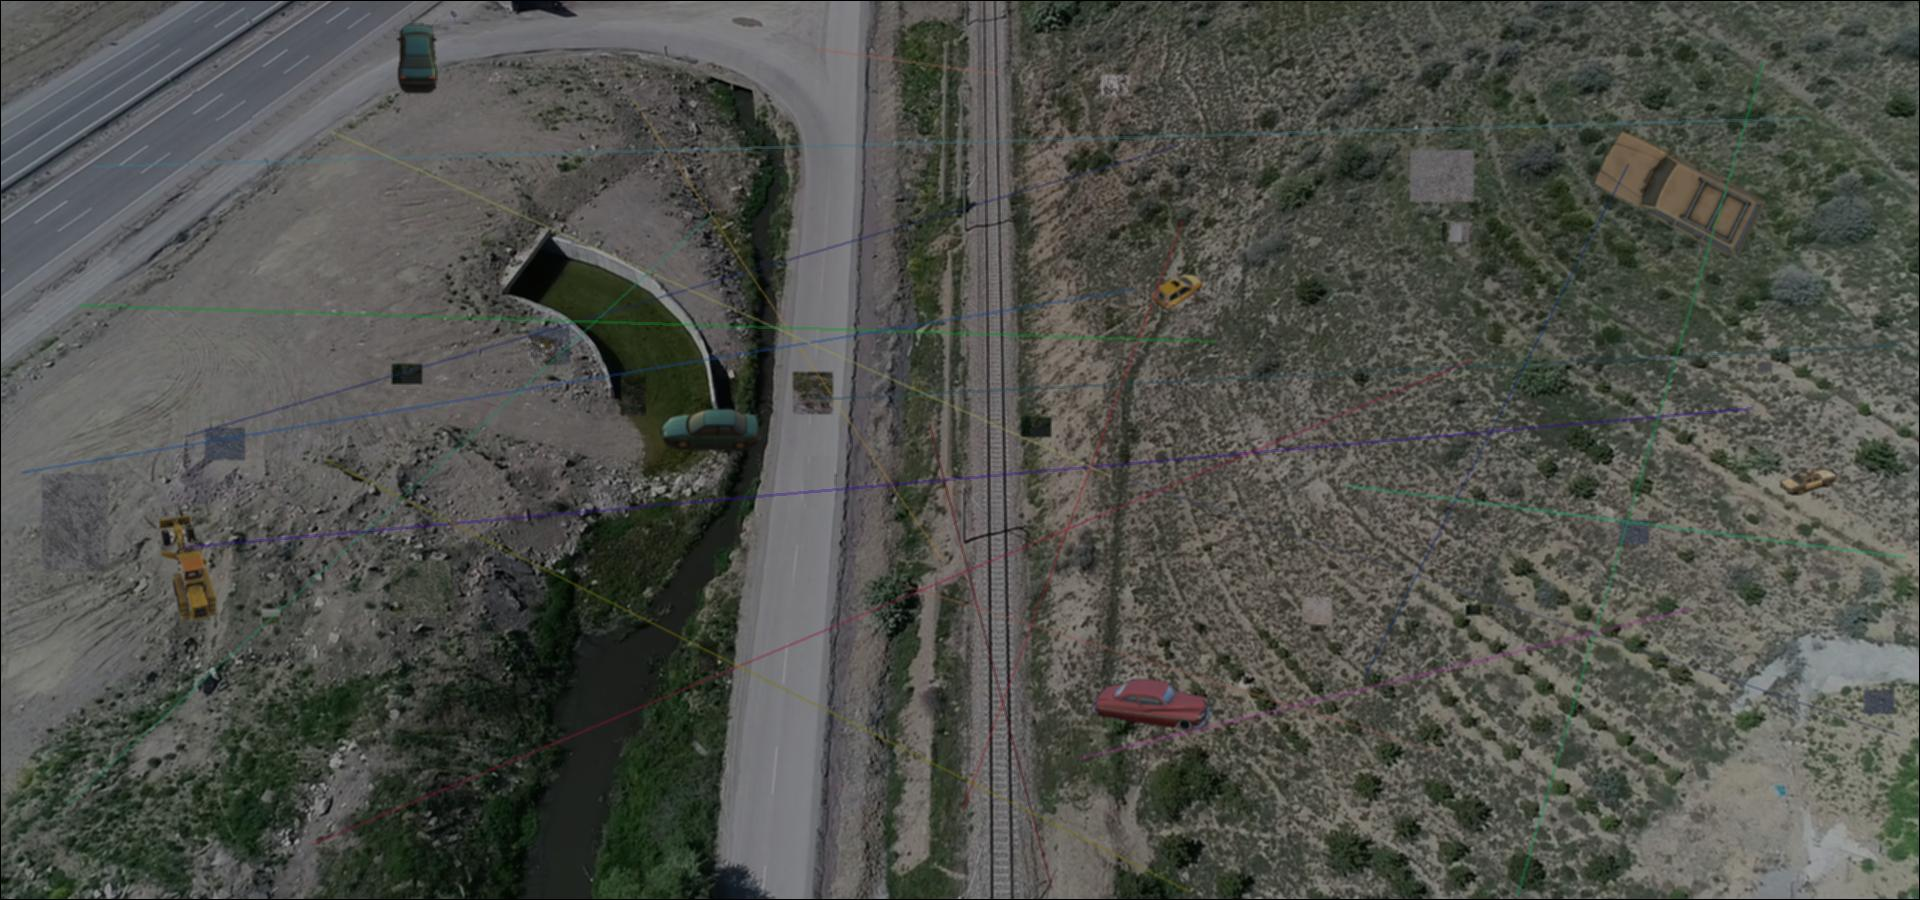arac: (1591, 124, 1766, 264), (156, 514, 220, 624), (1089, 676, 1211, 733), (659, 408, 763, 451), (393, 22, 440, 93), (1153, 276, 1202, 312), (1780, 467, 1840, 495)
